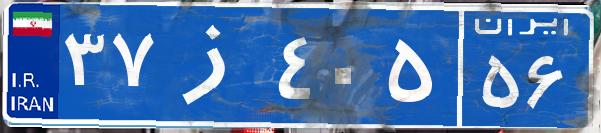0: (330, 28, 385, 110)
3: (57, 26, 110, 107)
4: (273, 28, 330, 110)
5: (385, 28, 445, 110), (475, 38, 525, 113)
6: (525, 38, 570, 115)
7: (110, 28, 158, 105)
ز: (158, 15, 273, 115)
